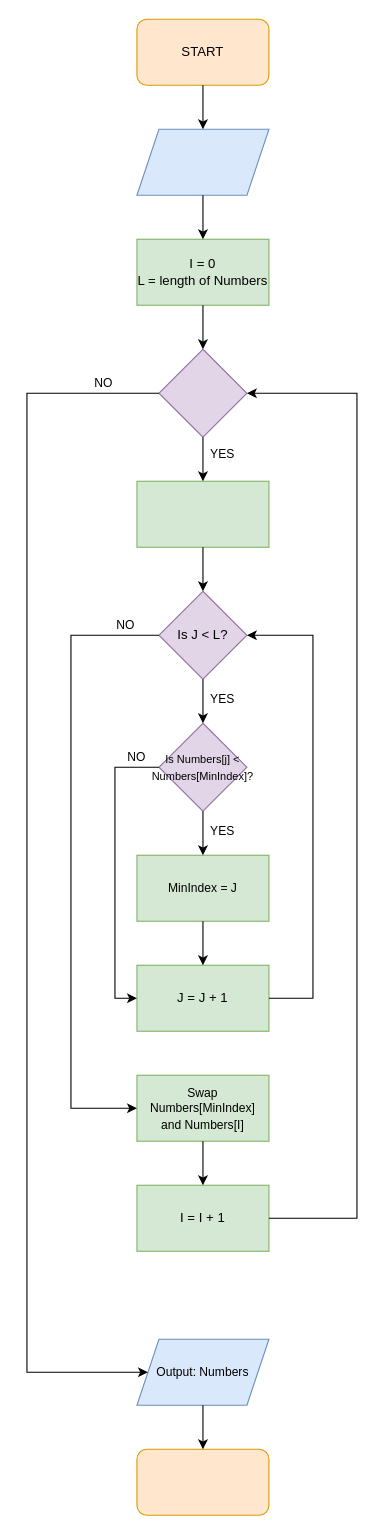
This 385x1535 diagram has some shape labels left out. The shapes that lost their labels are listed below. From the top down, each one's centre as x and y in pixels, then its label:
At (x=202, y=161): "input: Numbers".
At (x=202, y=392): "Is I < L-1?".
At (x=202, y=513): "MinIndex = I J = I + 1".
At (x=202, y=1481): "END".
